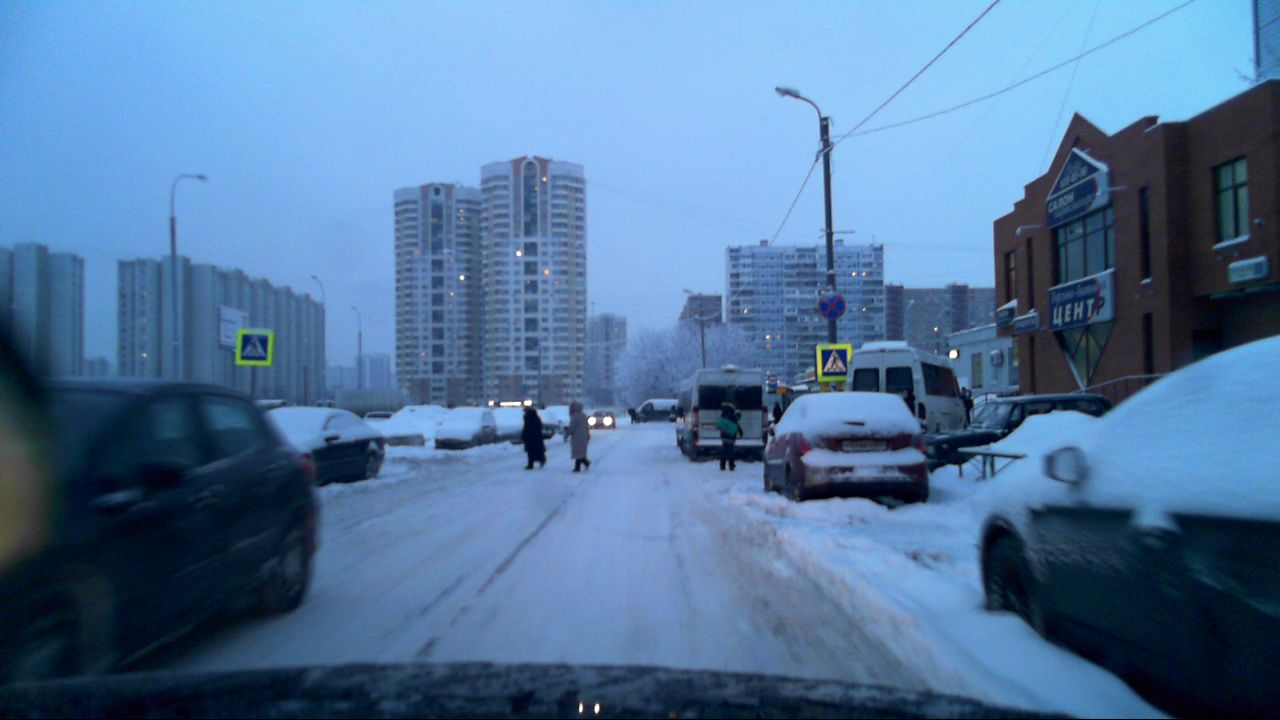No Parking: (817, 292, 846, 321)
